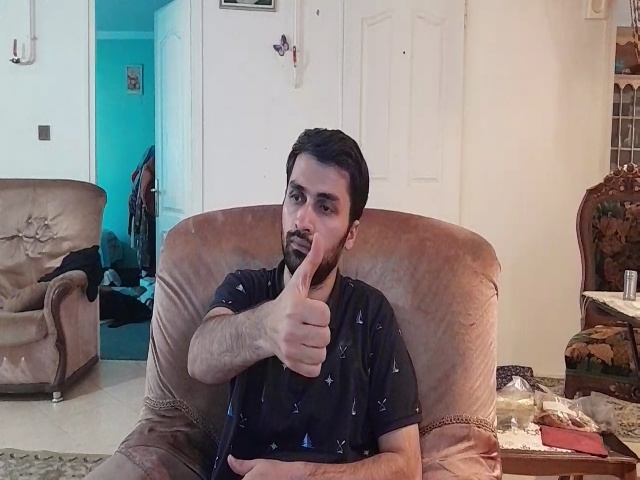ThumbsUp: (264, 229, 333, 381)
